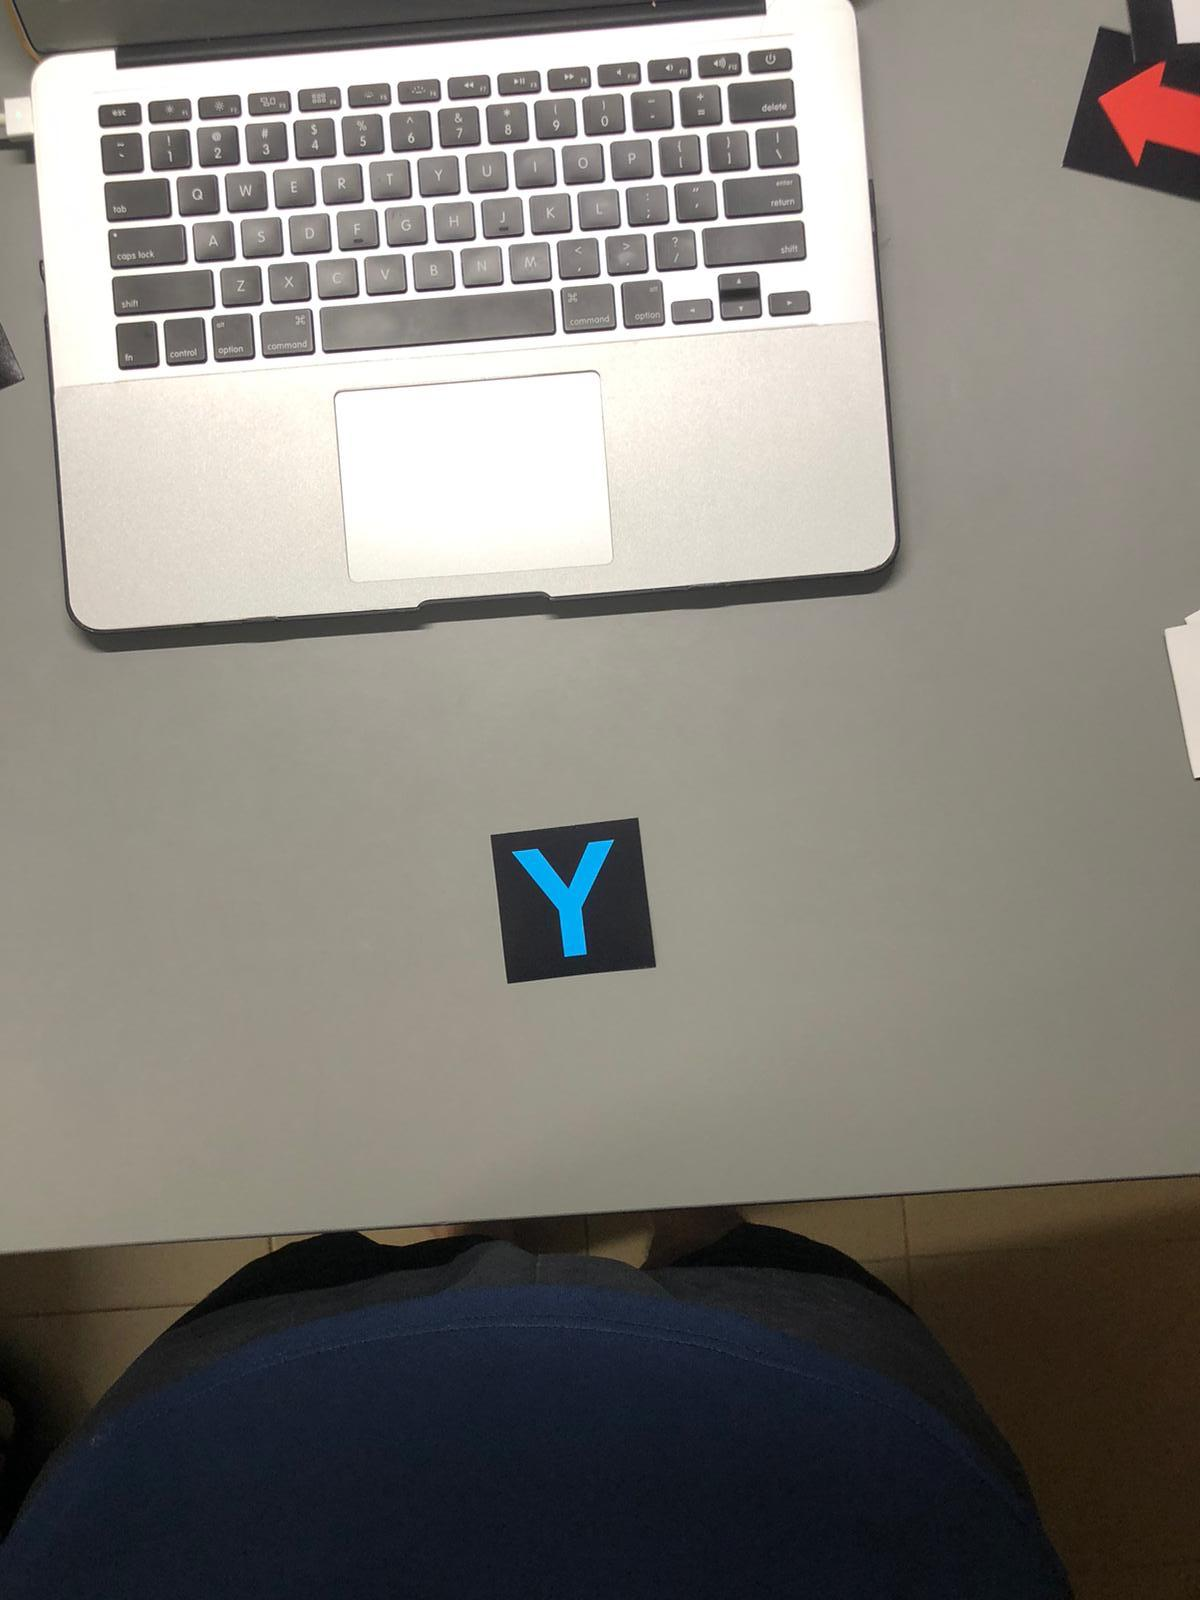Y: (492, 829, 649, 976)
